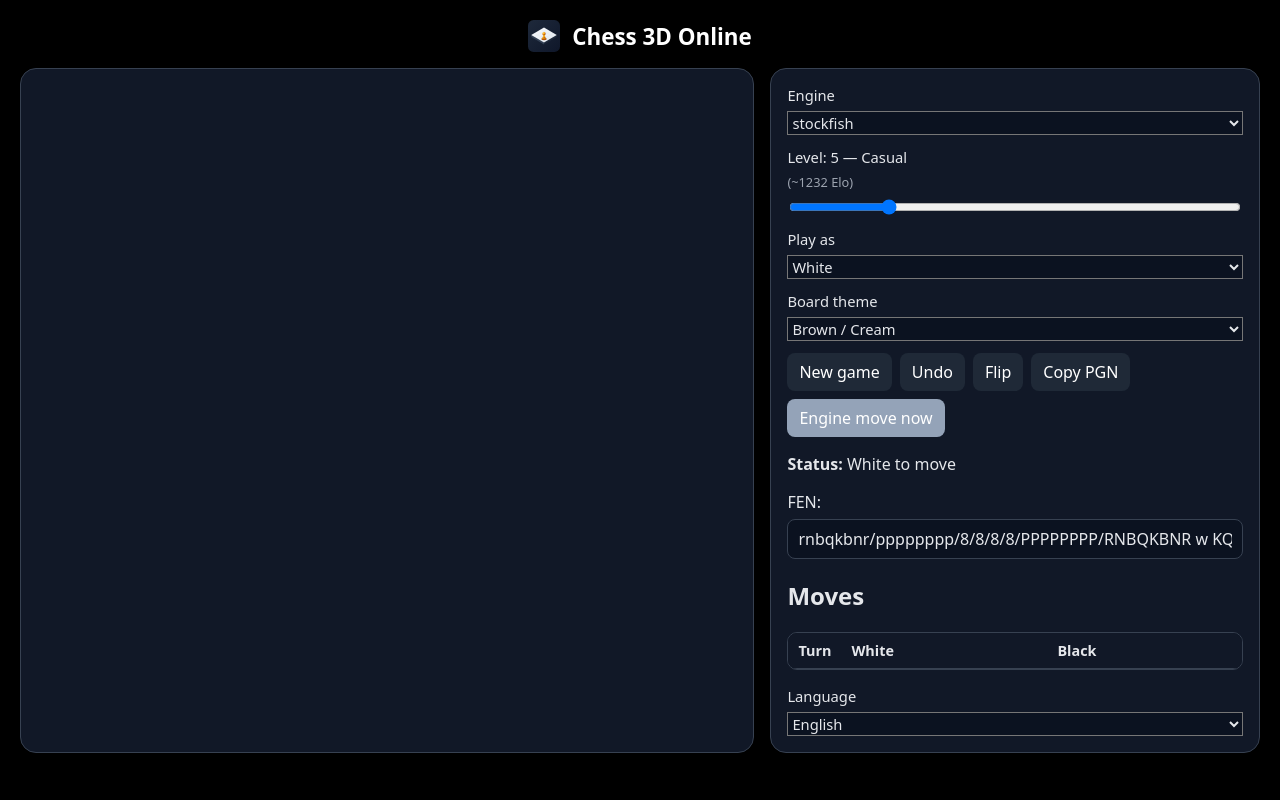
App › requests and applies engine move from UCI string
Replace the text in the field labelled "FEN:" with "rnbqkbnr/pppppppp/8/8/8/8/PPPPPPPP/RNBQKBNR b KQkq - 0 1" at [1015, 539], box [787,519,1243,559]
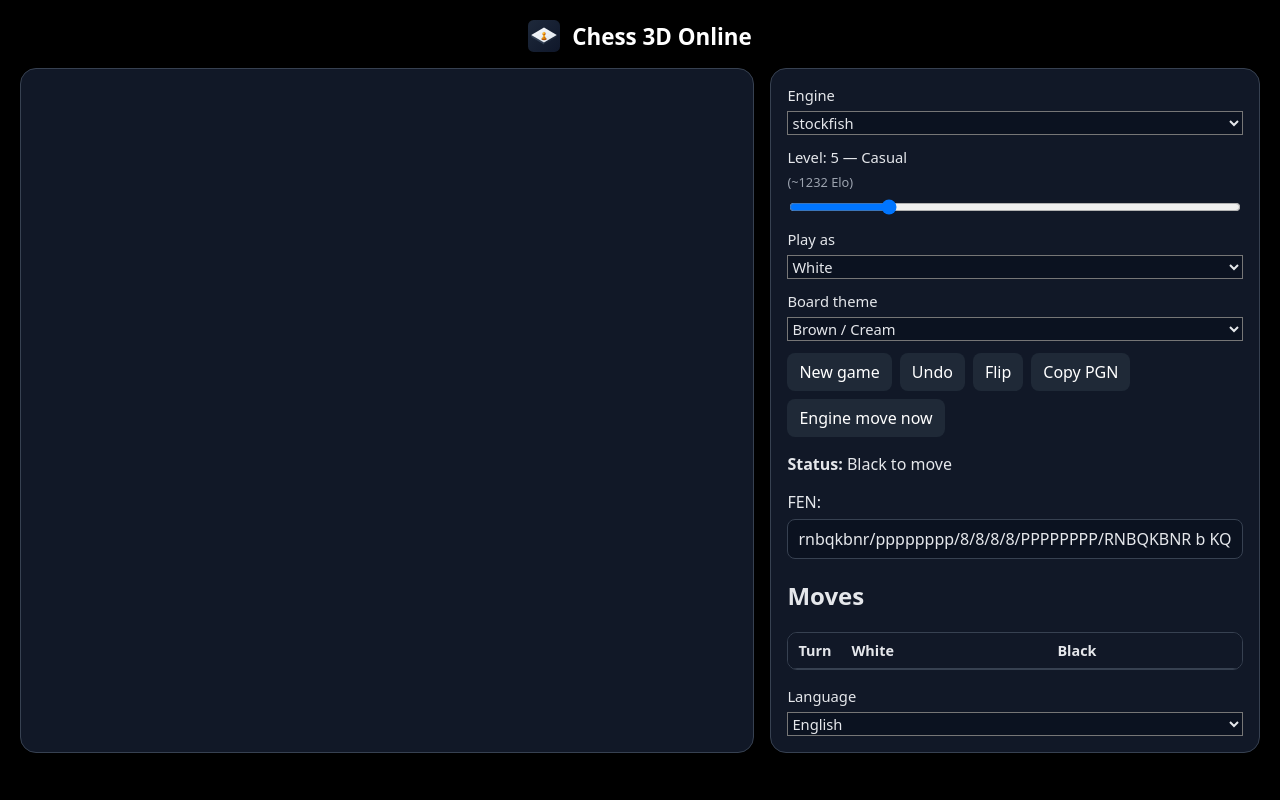
Expected: the button "Engine move now" is enabled
Click the button "Engine move now" at [866, 418], box [787,399,945,437]
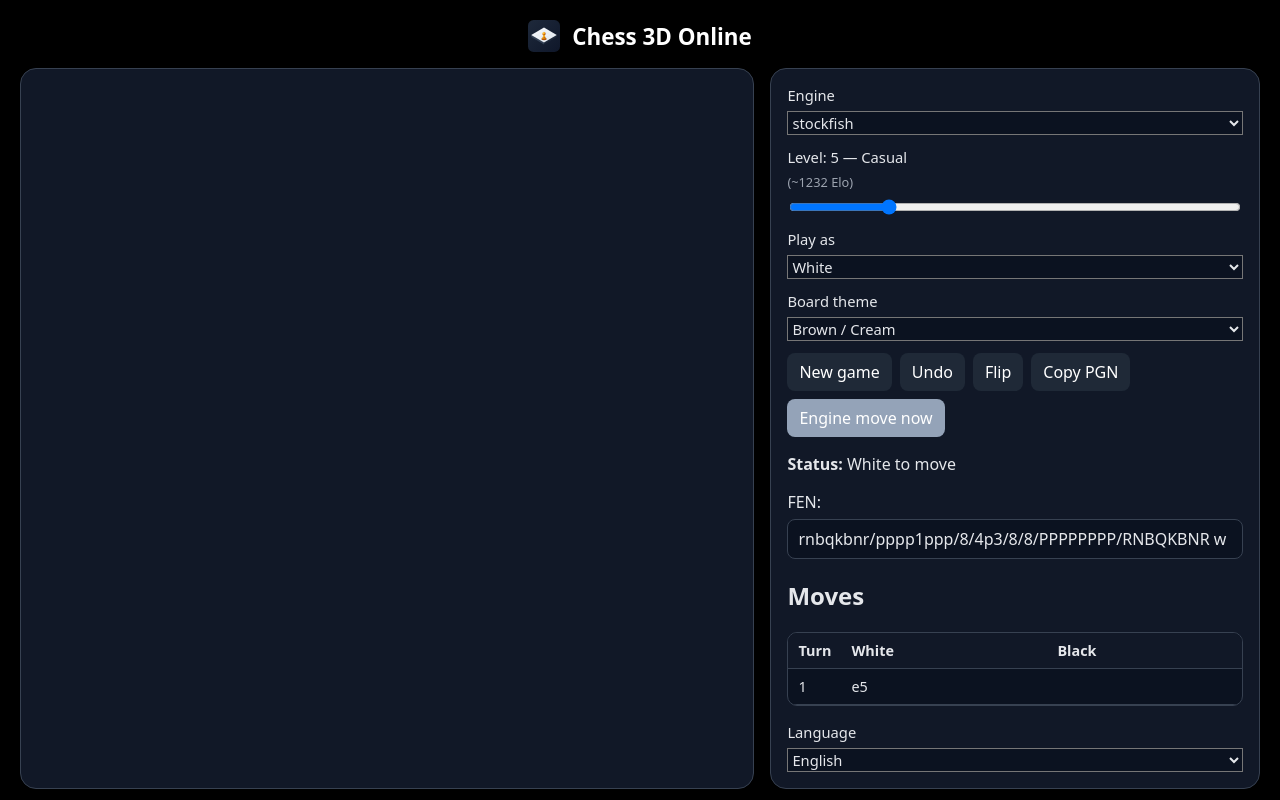
Expected: the text "e5" is shown, [842,668,1047,704]
Expected: the text "Status: White to move" is shown, [787,453,956,475]
